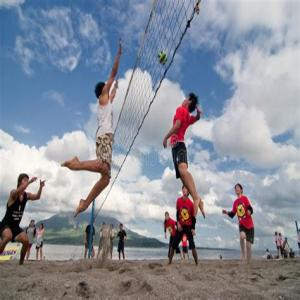Volley: (157, 49, 168, 66)
